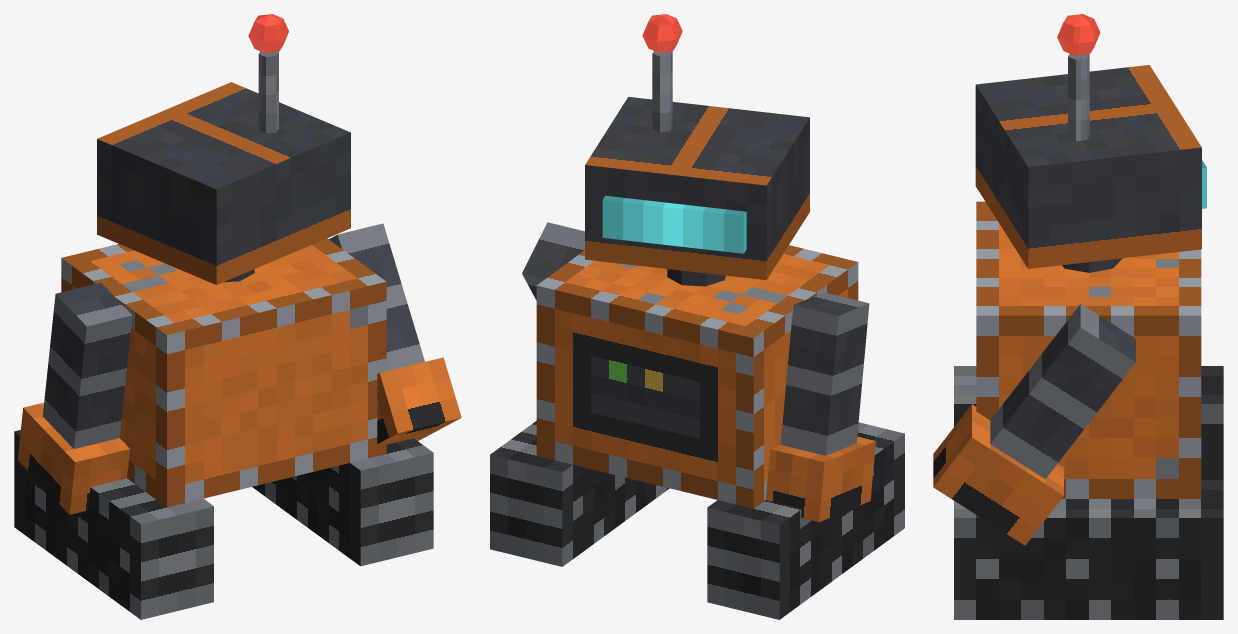
The model's file is rover.glb.
3 views of the same model, side by side, from view 1: azimuth 30°, elevation 25°; view 2: azimuth 150°, elevation 25°; view 3: azimuth 270°, elevation 25° (orthographic). The views are drawn at different scales.
Visible parts, largest first — view 1: body, head, tread_right, arm_right, tread_left, arm_left; view 2: body, head, tread_right, arm_right, tread_left, arm_left; view 3: head, body, tread_left, arm_left, tread_right.
Part boxes in pixels (<box>): body: <box>61,238,386,507</box>; head: <box>97,14,350,284</box>; tread_right: <box>14,430,213,619</box>; arm_right: <box>17,282,132,514</box>; tread_left: <box>252,438,433,566</box>; arm_left: <box>329,223,461,444</box>; body: <box>536,245,858,508</box>; head: <box>585,14,809,280</box>; tread_right: <box>707,422,904,619</box>; arm_right: <box>765,292,875,521</box>; tread_left: <box>490,421,669,566</box>; arm_left: <box>522,222,584,300</box>; head: <box>975,14,1206,268</box>; body: <box>976,201,1201,498</box>; tread_left: <box>954,480,1223,619</box>; arm_left: <box>933,303,1135,545</box>; tread_right: <box>954,366,1223,479</box>.
Size of the model in its own units: 1.13 by 1.69 by 0.8077.
Materials: 2 (2 with a texture image).
